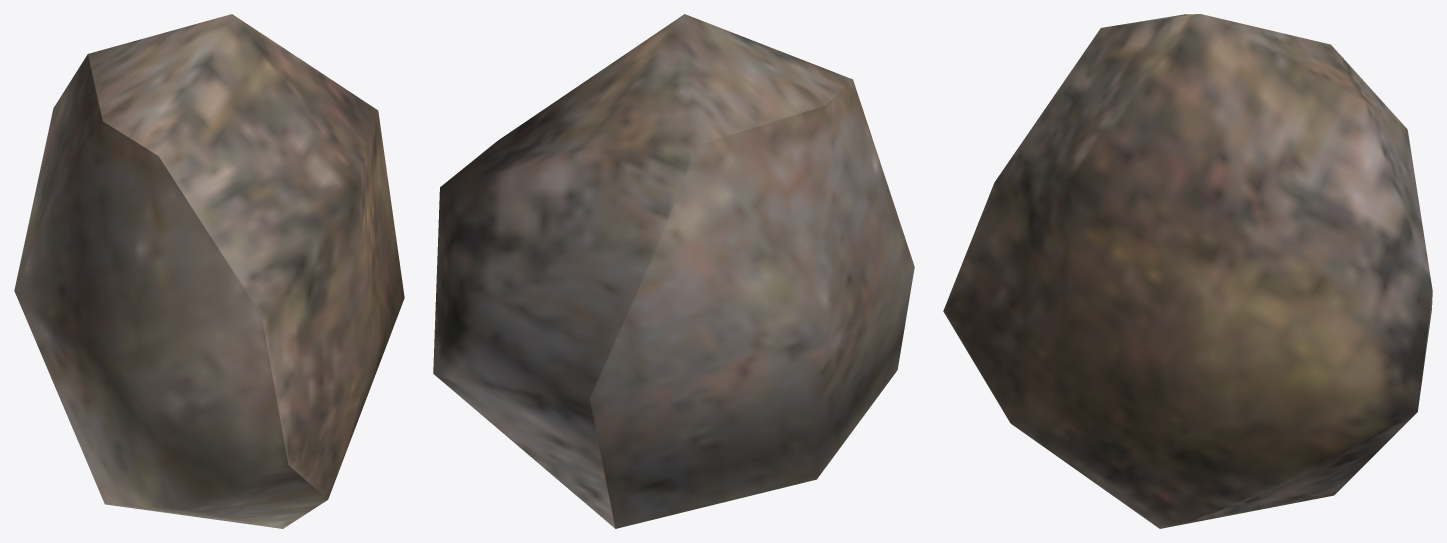
The model's file is SM_Stone13.FBX.
3 views of the same model, side by side, from view 1: azimuth 30°, elevation 25°; view 2: azimuth 150°, elevation 25°; view 3: azimuth 270°, elevation 25° (orthographic). The views are drawn at different scales.
Visible parts, largest first — view 1: SM_Stone13; view 2: SM_Stone13; view 3: SM_Stone13.
Part boxes in pixels (x1,y1,x2,y2): SM_Stone13: [14, 14, 404, 528]; SM_Stone13: [433, 14, 914, 528]; SM_Stone13: [943, 14, 1432, 528].
Bounding box in the file's own units: 57.81 × 68.22 × 76.96.
